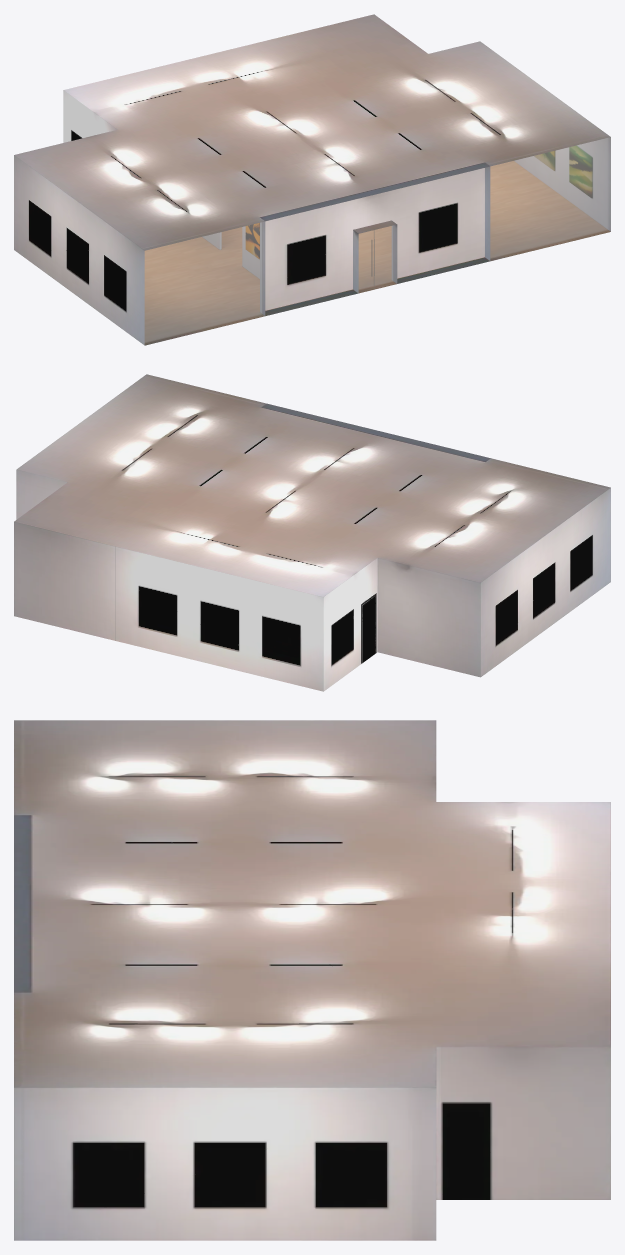
The picture shows the model from 3 angles, top to bottom: view 1: azimuth 30°, elevation 25°; view 2: azimuth 150°, elevation 25°; view 3: azimuth 270°, elevation 25°; orthographic projection. The views are drawn at different scales.
Visible parts, largest first — view 1: Floor, Glass, Paintings; view 2: Floor; view 3: Floor, Glass.
Part boxes in pixels (x1,y1,x2,y2): Floor: (14,14,610,345); Glass: (145,138,608,342); Paintings: (245,145,592,258); Floor: (14,374,610,691); Floor: (14,720,610,1240); Glass: (21,1047,439,1240).
Size of what is drawn, in the model's own units: 18 by 3.5 by 12.37.
6 materials, 4 textured.
